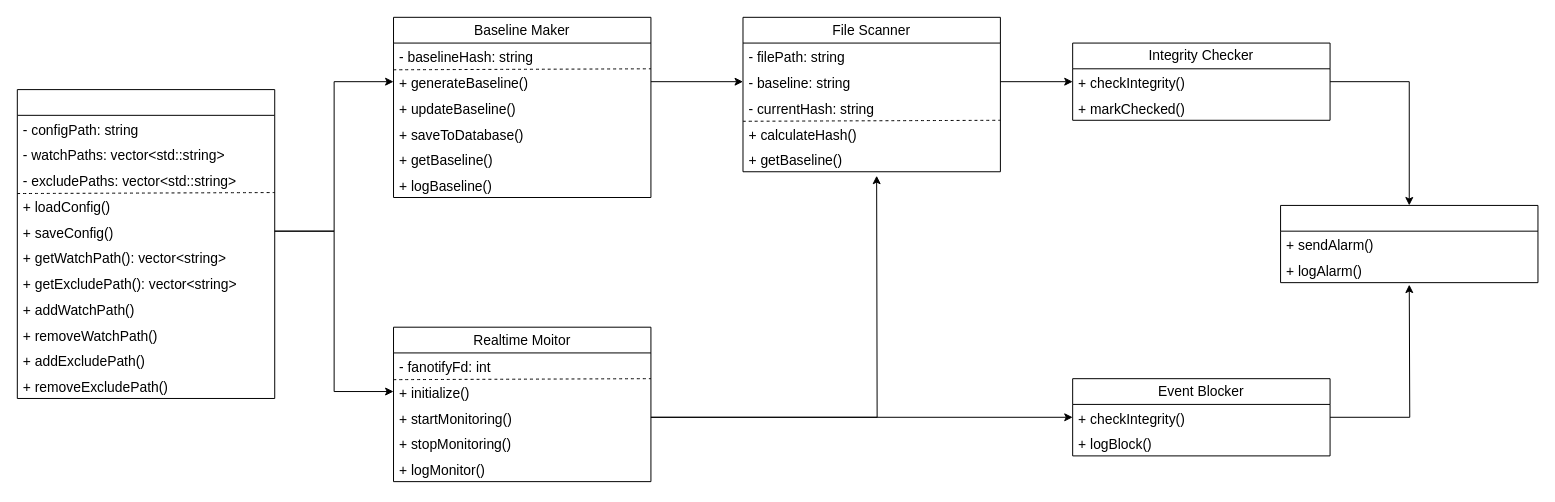
The diagram is 1555 pixels wide and 502 high, and some of its shapes have lost their labels. The box of each missing label's shape, as (x1, y1, x2, y2) in pixels:
Alarm Manager: (1280, 204, 1538, 283)
Configuration Manager: (16, 89, 275, 398)
